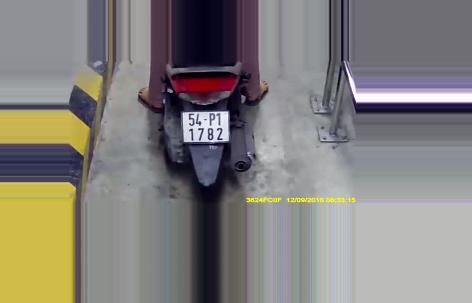License_Plate: (179, 107, 233, 146)
